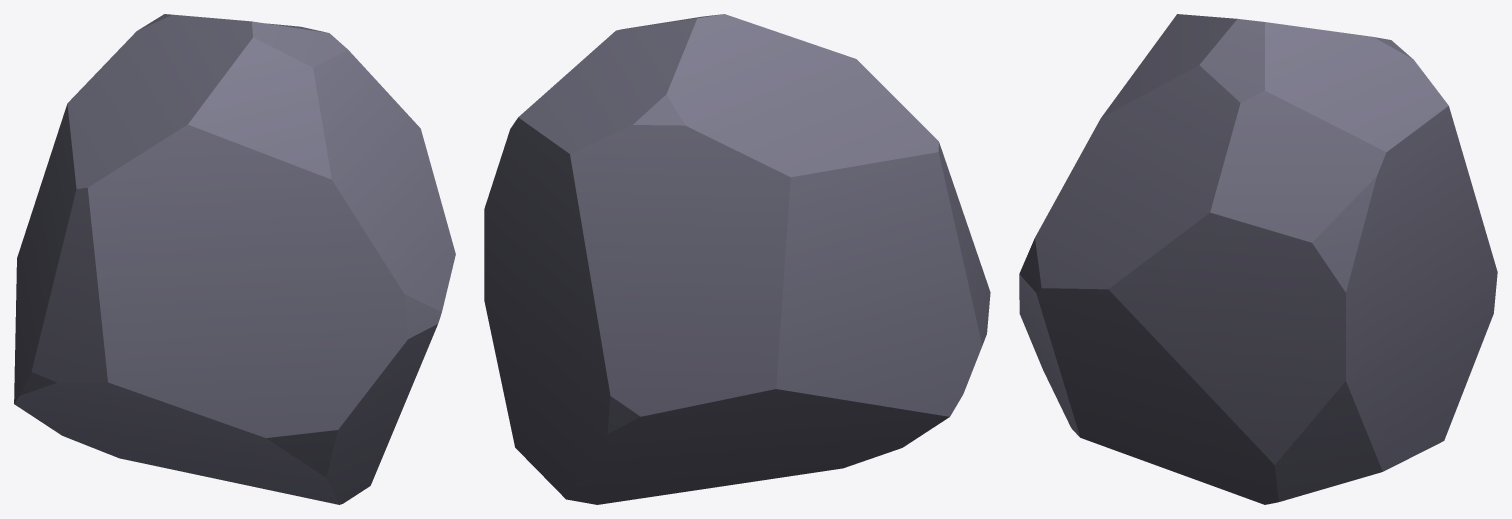
The model's file is Rock_01.glb.
3 views of the same model, side by side, from view 1: azimuth 30°, elevation 25°; view 2: azimuth 150°, elevation 25°; view 3: azimuth 270°, elevation 25° (orthographic). The views are drawn at different scales.
Visible parts, largest first — view 1: Rock_01_LOD0; view 2: Rock_01_LOD0; view 3: Rock_01_LOD0.
Boxes of the visible parts, x1=… form: Rock_01_LOD0: x1=14, y1=14, x2=455, y2=504; Rock_01_LOD0: x1=484, y1=14, x2=990, y2=504; Rock_01_LOD0: x1=1019, y1=14, x2=1497, y2=504.
Size of what is drawn, in the model's own units: 0.438 by 0.4385 by 0.4444.
1 material, 1 textured.
